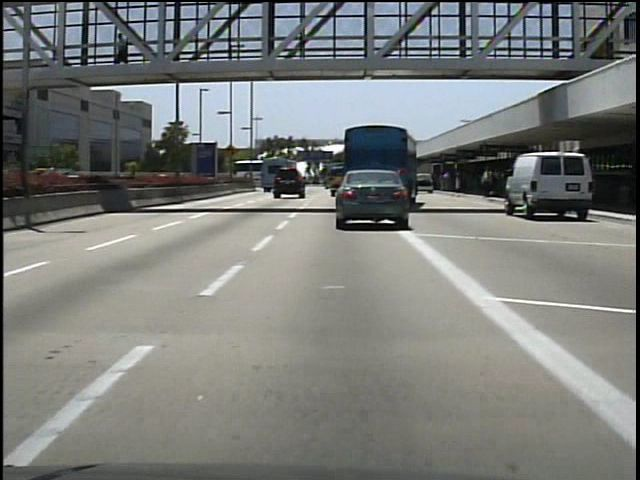person: (113, 30, 134, 77), (481, 164, 496, 198)
